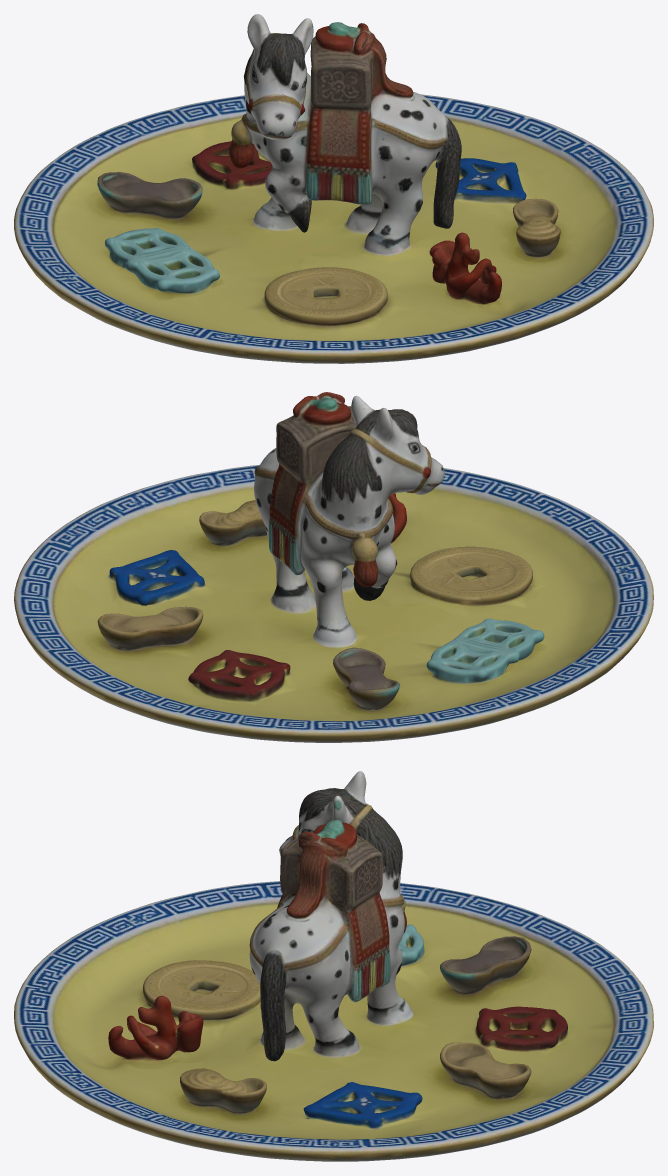
Rendered from 黃地粉彩寶馬香插.glb.
3 views of the same model, one above another, from view 1: azimuth 30°, elevation 25°; view 2: azimuth 150°, elevation 25°; view 3: azimuth 270°, elevation 25° (orthographic).
Parts seen in each view (by area): view 1: tripo_node_68f7ed8d; view 2: tripo_node_68f7ed8d; view 3: tripo_node_68f7ed8d.
Boxes of the visible parts, x1,y1,x2,y2 form: tripo_node_68f7ed8d: (14, 14, 653, 363); tripo_node_68f7ed8d: (14, 392, 653, 742); tripo_node_68f7ed8d: (14, 771, 653, 1161).
Size of the model in its own units: 97.65 by 41.06 by 97.38.
Materials: 1 (1 with a texture image).
